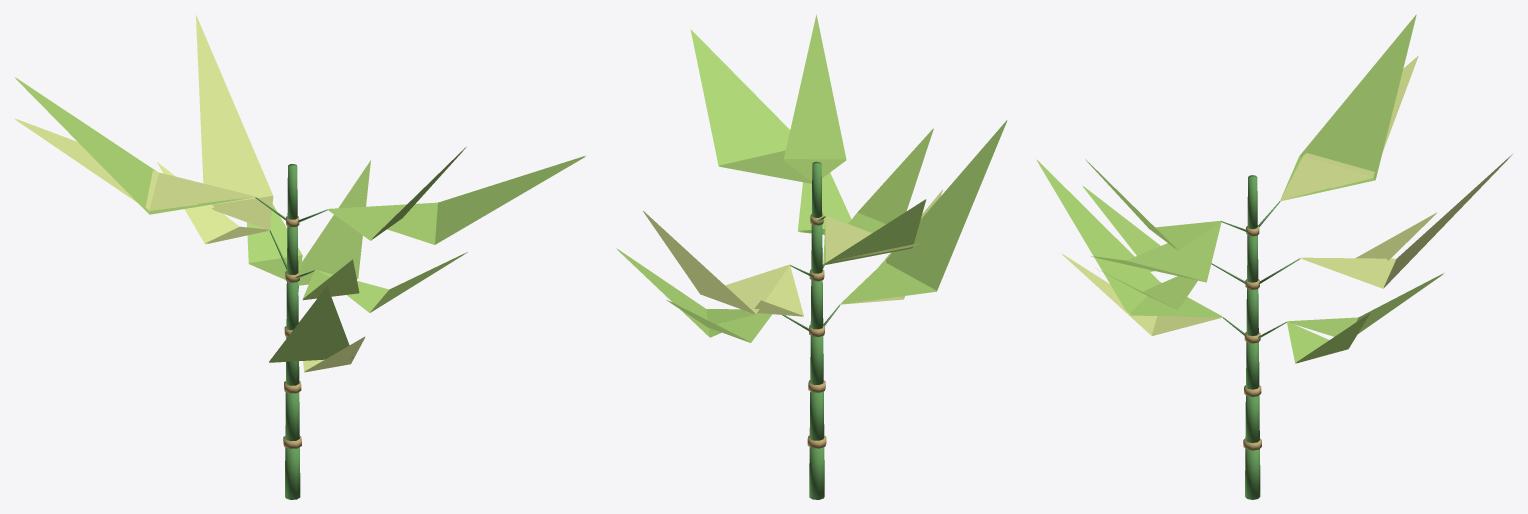
Rendered from bamboo_culm_shoot.glb.
The picture shows the model from 3 angles, left to right: view 1: azimuth 30°, elevation 25°; view 2: azimuth 150°, elevation 25°; view 3: azimuth 270°, elevation 25°; orthographic projection. The views are drawn at different scales.
Parts seen in each view (by area): view 1: bamboo_culm_shoot; view 2: bamboo_culm_shoot; view 3: bamboo_culm_shoot.
Part boxes in pixels (left/top/right/bottom): bamboo_culm_shoot: left=15, top=15, right=585, bottom=499; bamboo_culm_shoot: left=616, top=14, right=1007, bottom=499; bamboo_culm_shoot: left=1036, top=14, right=1512, bottom=499.
Size of the model in its own units: 1.85 by 1.78 by 1.96.
